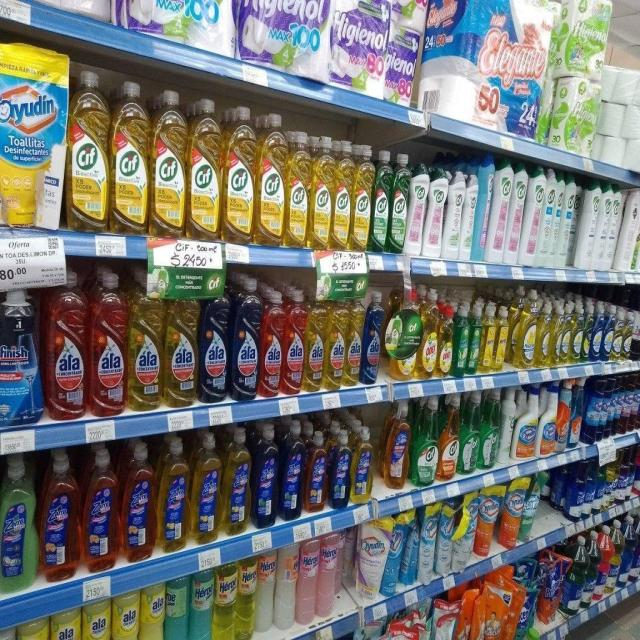ala_conc_amarillo: (128, 273, 163, 411), (165, 288, 198, 407), (326, 293, 346, 390), (306, 290, 325, 392), (346, 294, 362, 386)
ala_conc_azul: (200, 283, 230, 403), (232, 277, 259, 401), (362, 290, 382, 386)
ala_conc_rojo: (46, 270, 88, 421), (89, 270, 127, 418), (260, 289, 283, 398), (283, 290, 305, 396)
ala_crem_amarillo: (139, 581, 164, 640), (112, 590, 138, 640), (82, 597, 111, 640), (50, 607, 81, 640), (19, 616, 49, 640)
ala_crem_blanco: (0, 624, 17, 640)
ala_sachet_amarillo: (514, 390, 538, 460)
cif_conc_bot_amarilla: (68, 68, 109, 232), (110, 79, 148, 234), (151, 86, 186, 237), (188, 94, 221, 240), (223, 105, 255, 242), (256, 111, 285, 247), (286, 130, 310, 248), (310, 134, 332, 250), (333, 140, 352, 250), (353, 144, 372, 252), (439, 393, 459, 480)
cif_conc_botella_verde: (372, 148, 390, 253), (390, 152, 408, 255)
heroe: (318, 531, 339, 619), (235, 555, 256, 640), (213, 560, 235, 640), (297, 536, 317, 624), (189, 568, 212, 640), (256, 550, 275, 634), (164, 575, 188, 640)
magistral_con_amarillo: (520, 293, 536, 369), (537, 301, 551, 368), (571, 300, 583, 363), (552, 301, 563, 366), (561, 302, 571, 365), (613, 306, 623, 361), (622, 310, 632, 360)
magistral_con_azul: (591, 301, 602, 361), (603, 304, 613, 361), (582, 300, 590, 362)
magistral_con_crema: (540, 383, 556, 456)
zorro: (40, 448, 80, 582), (0, 454, 37, 594), (82, 446, 119, 572), (122, 441, 156, 562), (158, 436, 190, 553), (192, 431, 221, 544), (223, 426, 251, 535), (253, 423, 279, 528), (280, 421, 304, 520), (384, 400, 409, 490), (305, 429, 328, 513), (351, 426, 375, 504), (330, 428, 350, 509)
